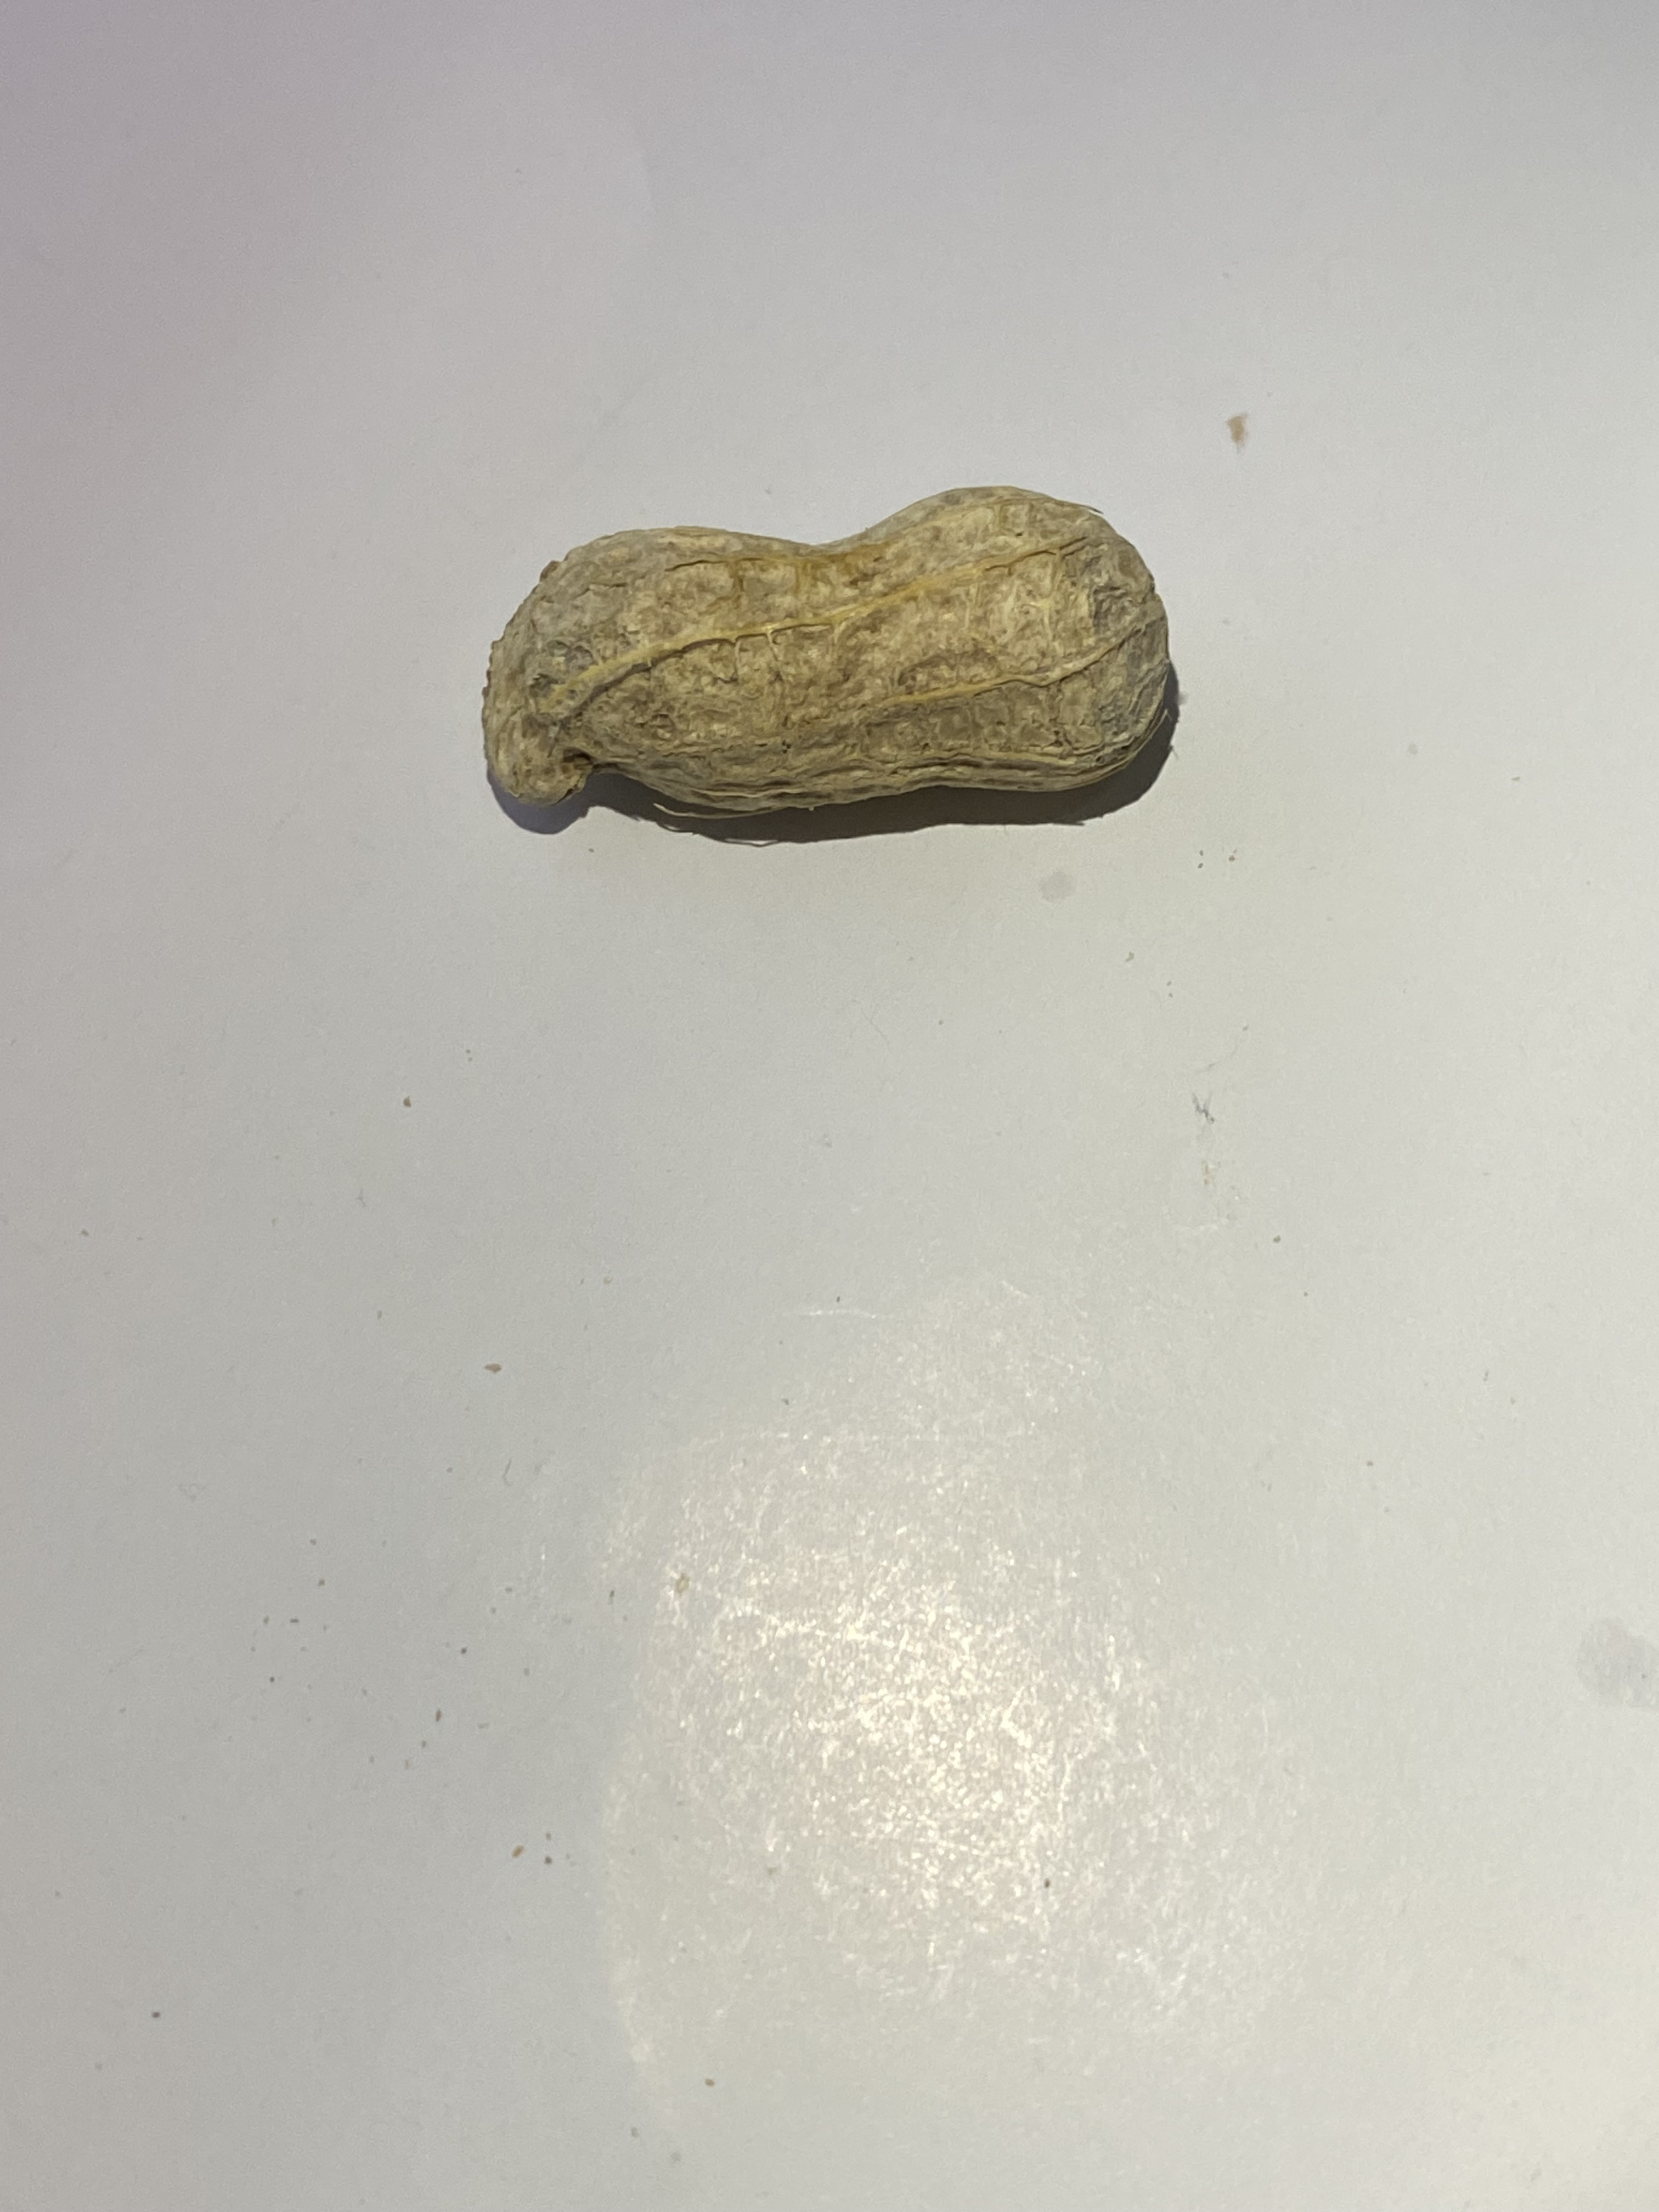kacang2: (448, 448, 1180, 838)
